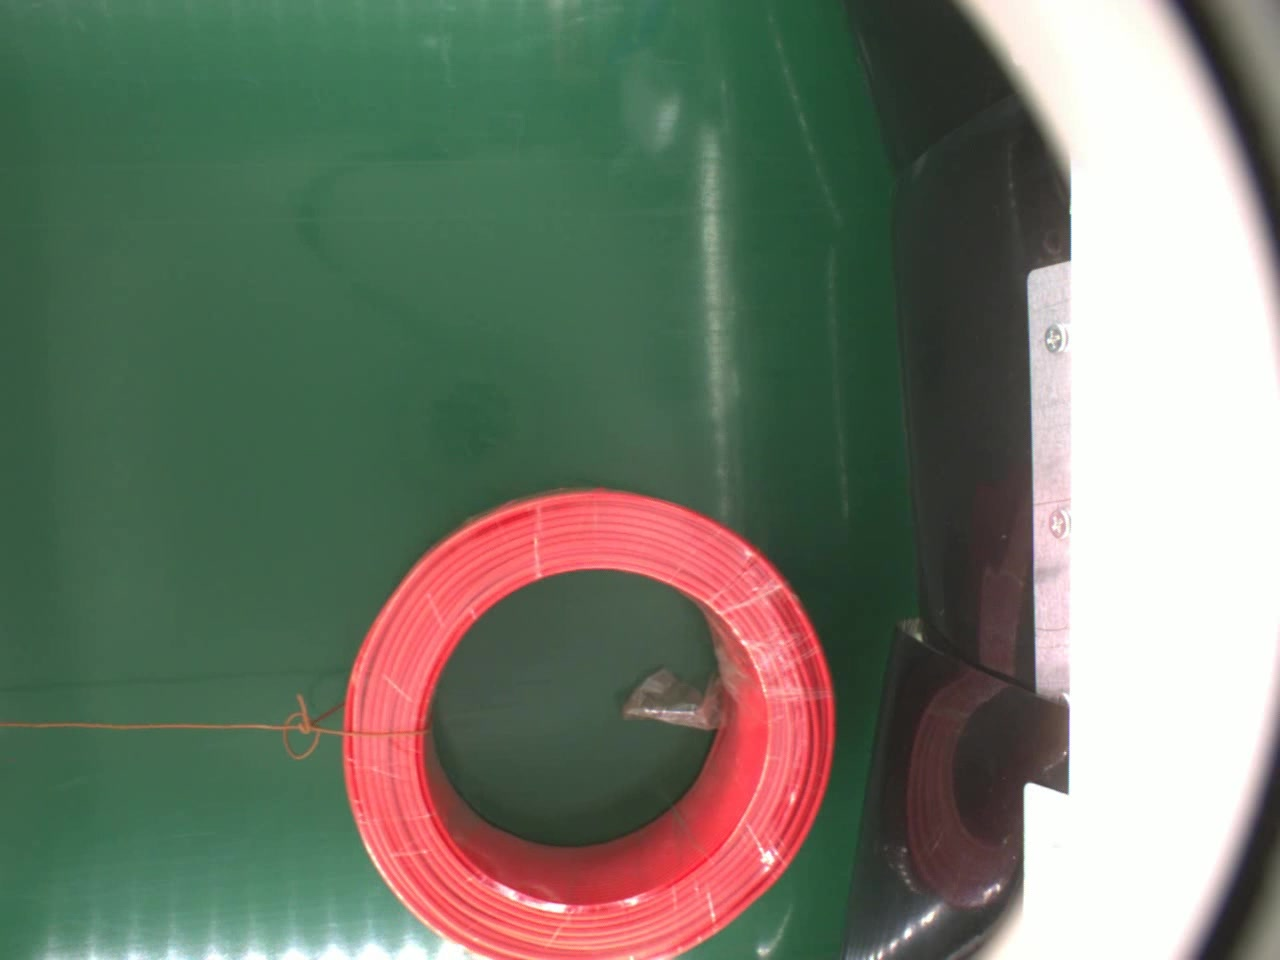red: (337, 480, 843, 956)
